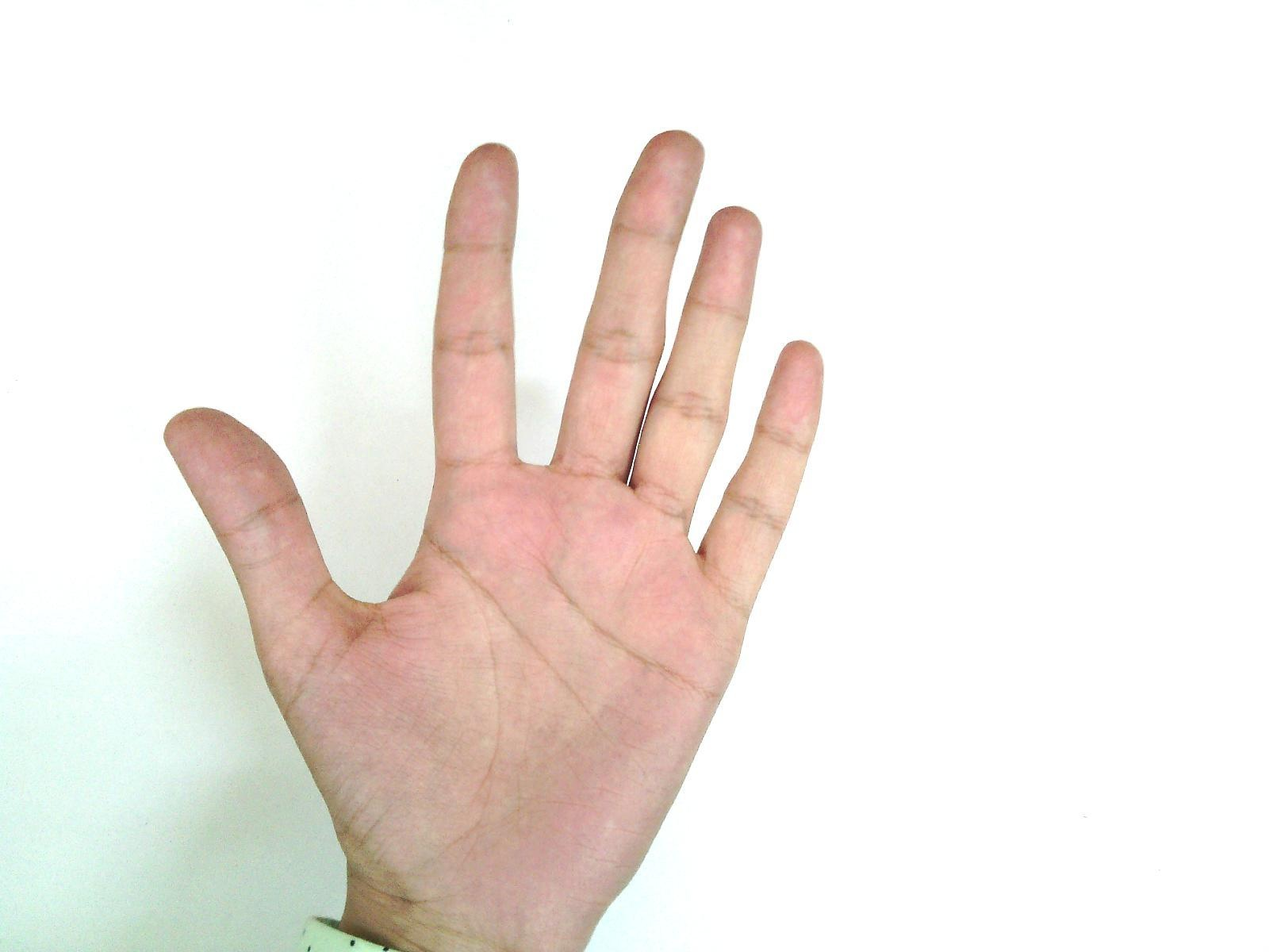open_palm: (162, 128, 828, 951)
